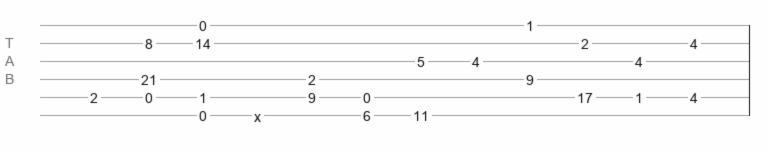0: (145, 90, 153, 100), (199, 18, 207, 28), (199, 108, 207, 118), (363, 90, 371, 100)
1: (199, 90, 207, 100), (526, 18, 534, 28), (635, 90, 643, 100)
11: (413, 108, 429, 118)
14: (195, 36, 211, 46)
17: (577, 90, 593, 100)
2: (90, 90, 98, 100), (308, 72, 316, 82), (581, 36, 589, 46)
21: (141, 72, 157, 82)
4: (472, 54, 480, 64), (635, 54, 643, 64), (690, 36, 698, 46), (690, 90, 698, 100)
5: (417, 54, 425, 64)
6: (363, 108, 371, 118)
8: (145, 36, 153, 46)
9: (308, 90, 316, 100), (526, 72, 534, 82)
x: (254, 109, 261, 117)
